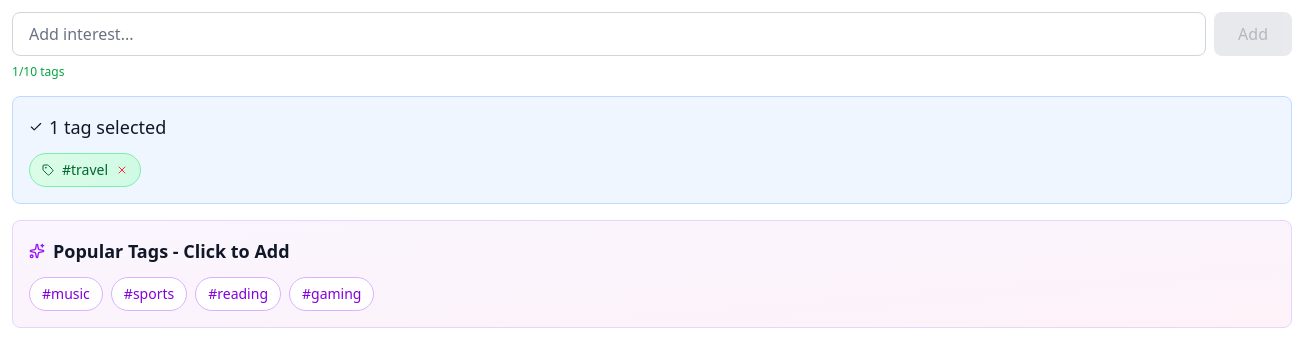
Scenario: TagSelector Component › Validation and Errors › should show error for duplicate tag
Type "travel" into the field with placeholder "Add interest..." at point(609, 34), box [12, 12, 1206, 56]
Then press Enter
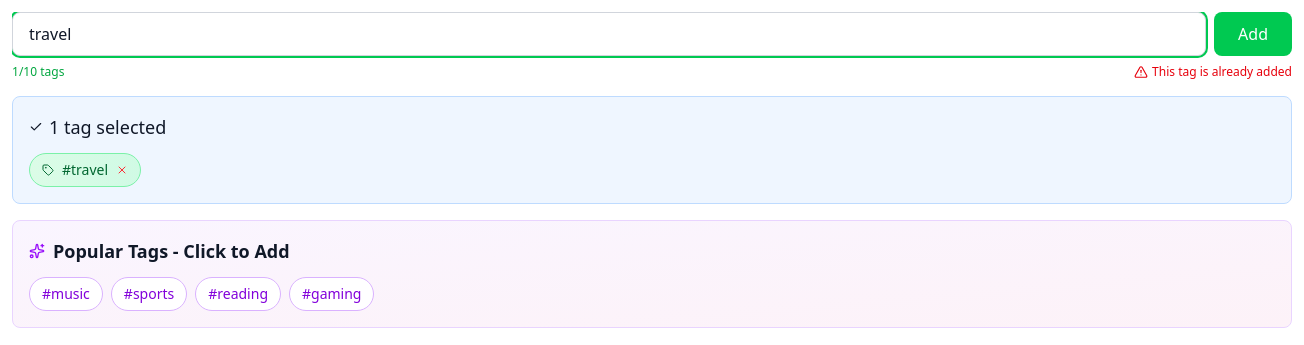
Check: the text "This tag is already added" is shown, box [1134, 64, 1292, 80]
